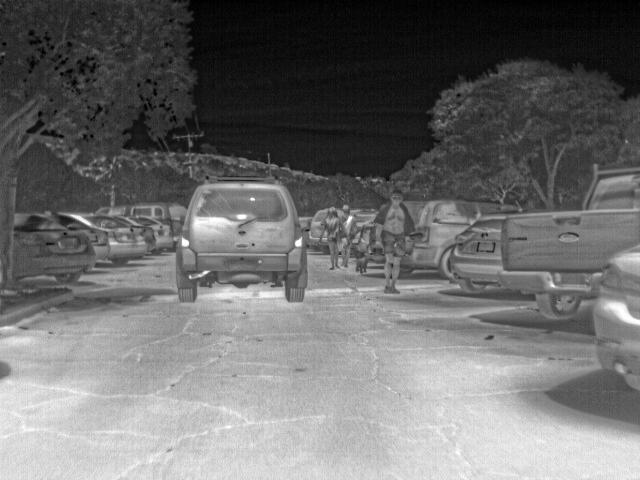car: (499, 168, 639, 320), (177, 174, 308, 303), (411, 196, 517, 281), (592, 240, 639, 394), (12, 212, 97, 285), (62, 212, 140, 268), (452, 215, 505, 296), (103, 202, 188, 242), (58, 215, 110, 271), (130, 214, 175, 254), (113, 216, 158, 251), (306, 208, 326, 252), (357, 209, 379, 236)
dog: (355, 249, 370, 274)
person: (379, 188, 410, 296), (324, 208, 342, 270), (339, 204, 355, 269)
